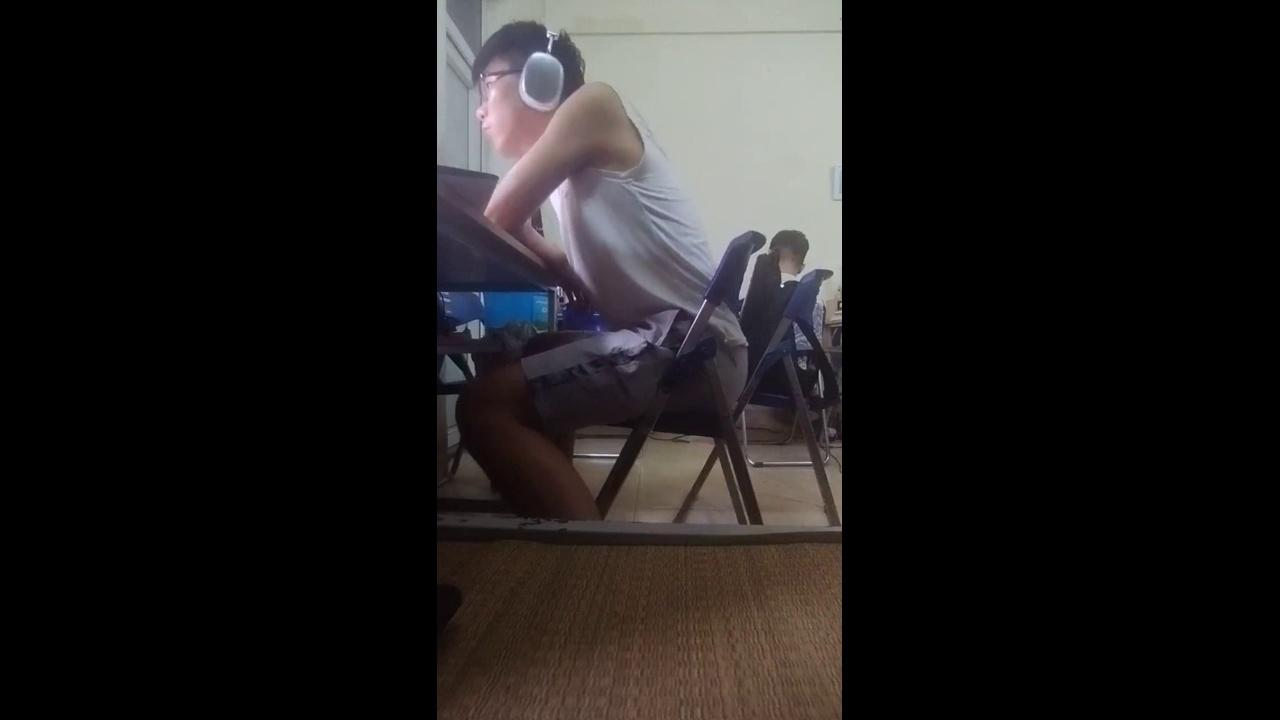BadPosture: (458, 21, 717, 518)
